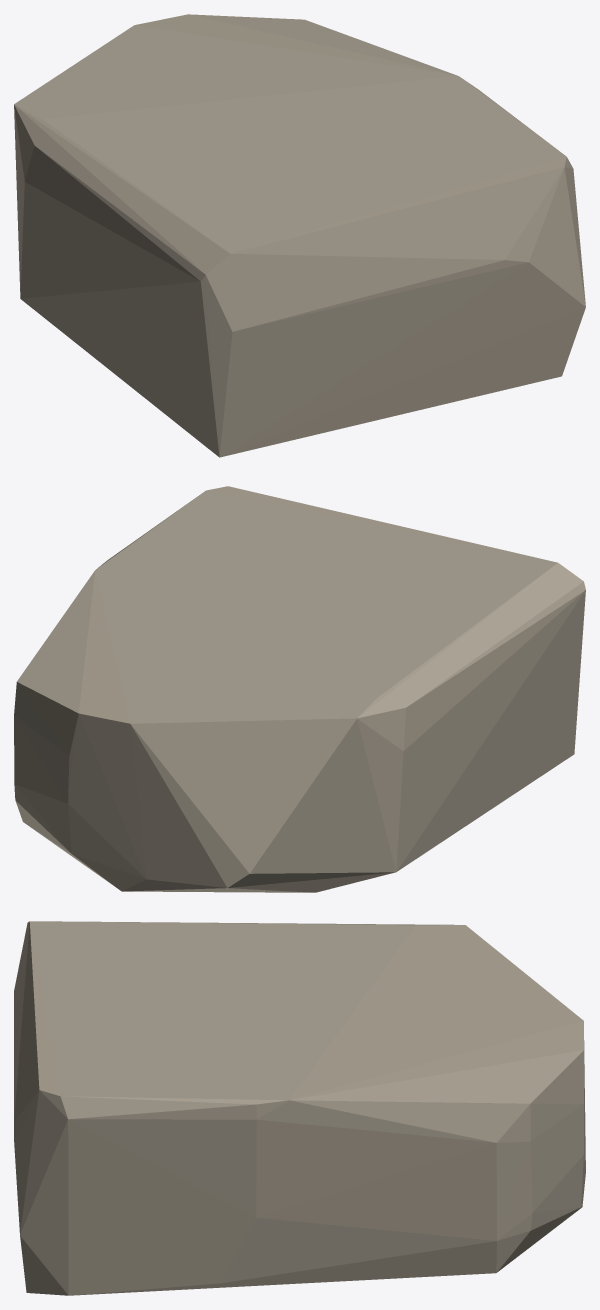
The model's file is cart_equipment_diagnostic_a01.glb.
3 renders of one model, top to bottom at view 1: azimuth 30°, elevation 25°; view 2: azimuth 150°, elevation 25°; view 3: azimuth 270°, elevation 25°, orthographic. The views are drawn at different scales.
Visible parts, largest first — view 1: geometry_0; view 2: geometry_0; view 3: geometry_0.
Boxes of the visible parts, x1,y1,x2,y2 form: geometry_0: [14, 14, 585, 457]; geometry_0: [14, 486, 585, 892]; geometry_0: [14, 921, 585, 1295].
Bounding box in the file's own units: 0.3869 × 0.1914 × 0.4787.
